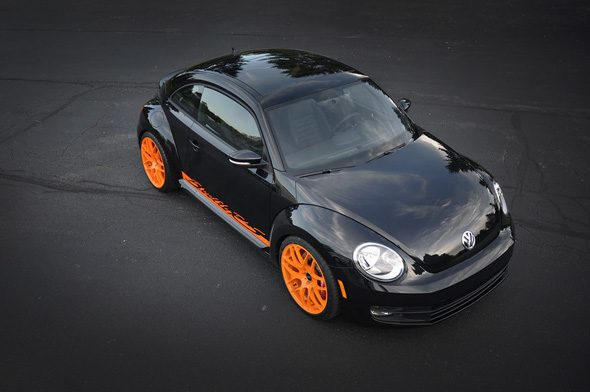car: (137, 47, 518, 327)
